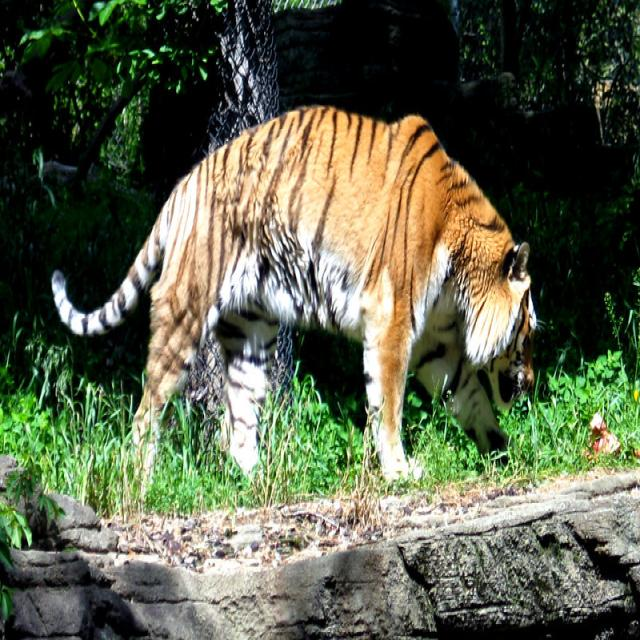Tiger: (45, 109, 540, 500)
